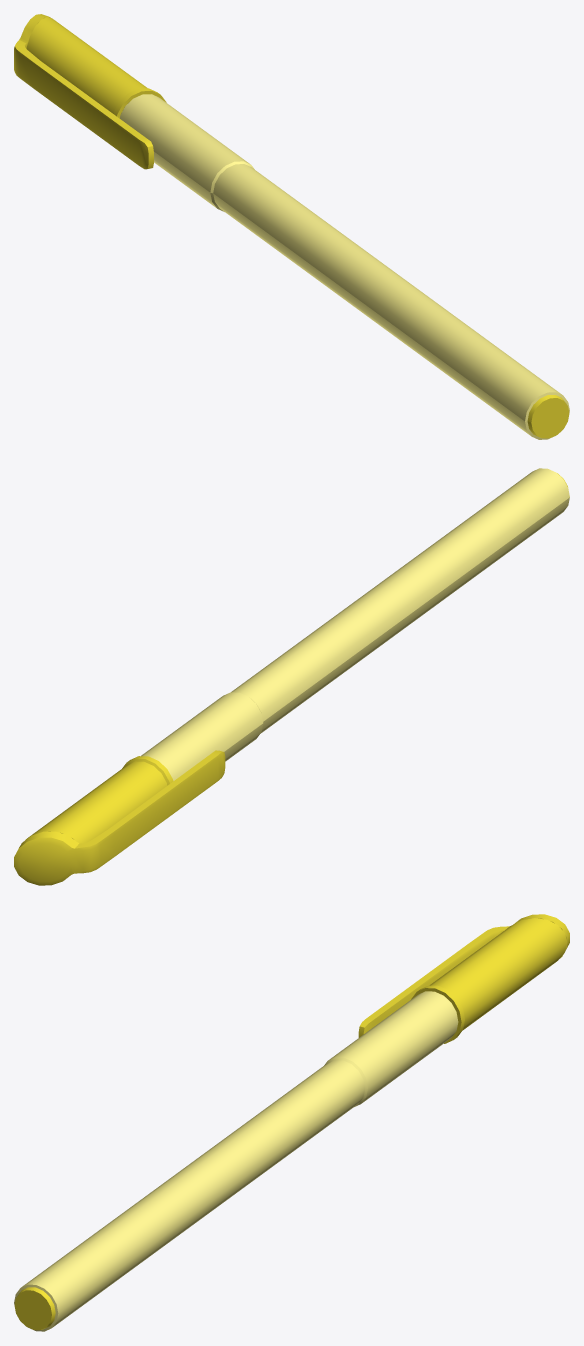
3 views of the same model, one above another, from view 1: azimuth 30°, elevation 25°; view 2: azimuth 150°, elevation 25°; view 3: azimuth 330°, elevation 25° (orthographic).
Parts seen in each view (by area): view 1: gel_pen, hood_02; view 2: gel_pen, hood_02; view 3: gel_pen, hood_02.
Boxes of the visible parts, box(x1,y1,x2,y2) form: gel_pen: box(119, 94, 569, 439); hood_02: box(14, 14, 166, 169); gel_pen: box(141, 468, 569, 780); hood_02: box(14, 750, 225, 885); gel_pen: box(14, 991, 458, 1331); hood_02: box(358, 914, 569, 1043).
Size of the model in its own units: 113 by 94.84 by 1609.
